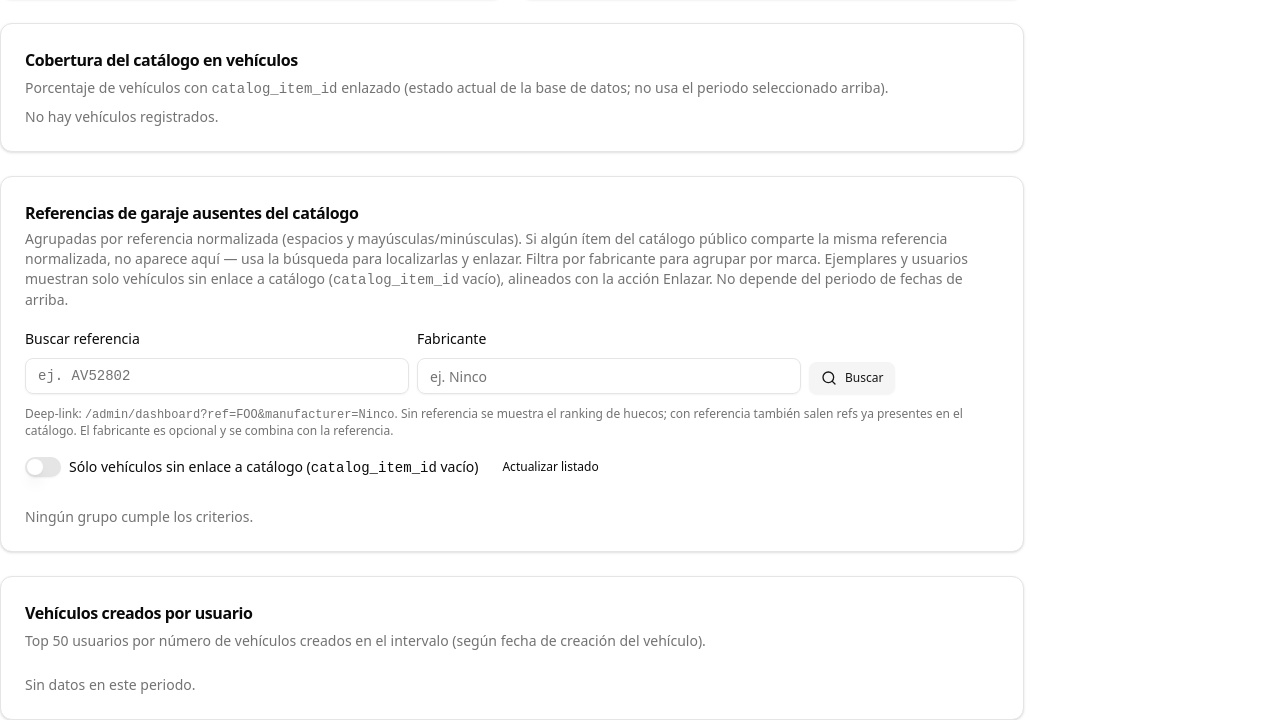
AdminPlatformDashboard — búsqueda y enlace de refs de garaje › filtra por fabricante y lo combina con la referencia
(page scrolled)
Type "Ninco" into the search field labelled "Fabricante" at (609,376), box [417,358,801,394]
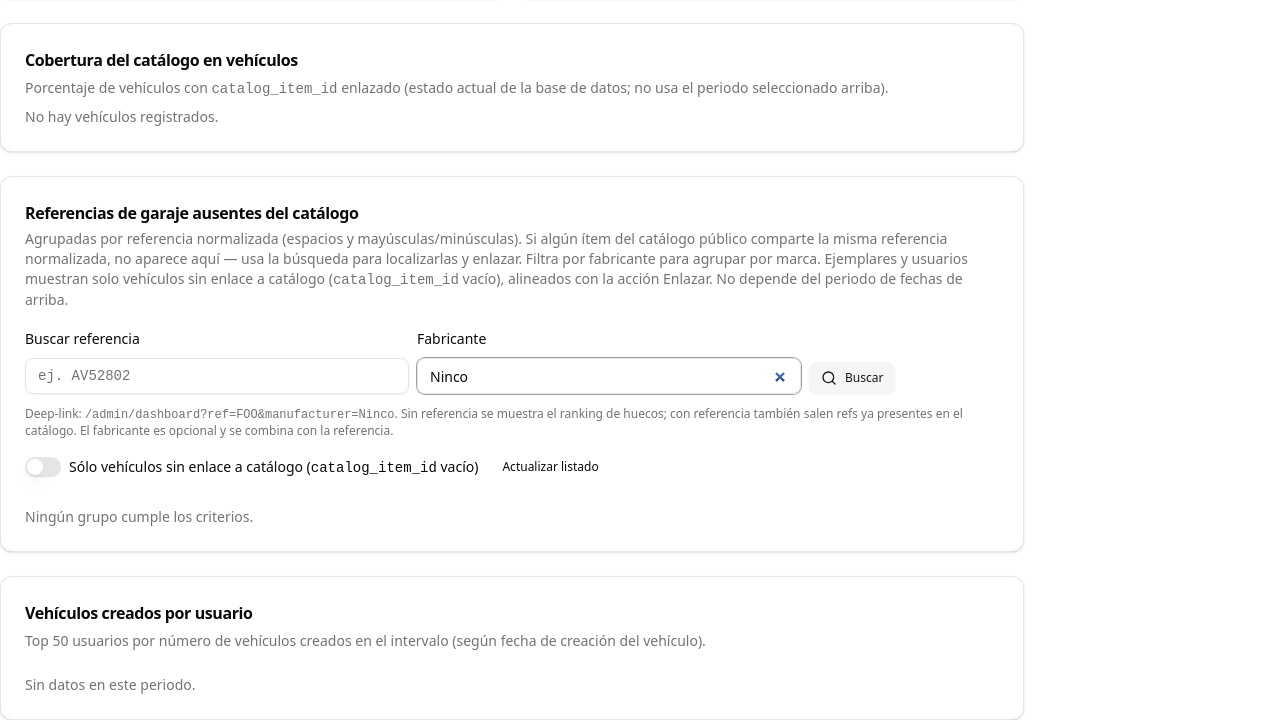
Type "AV52802" into the search field labelled "Buscar referencia" at (217,376), box [25,358,409,394]
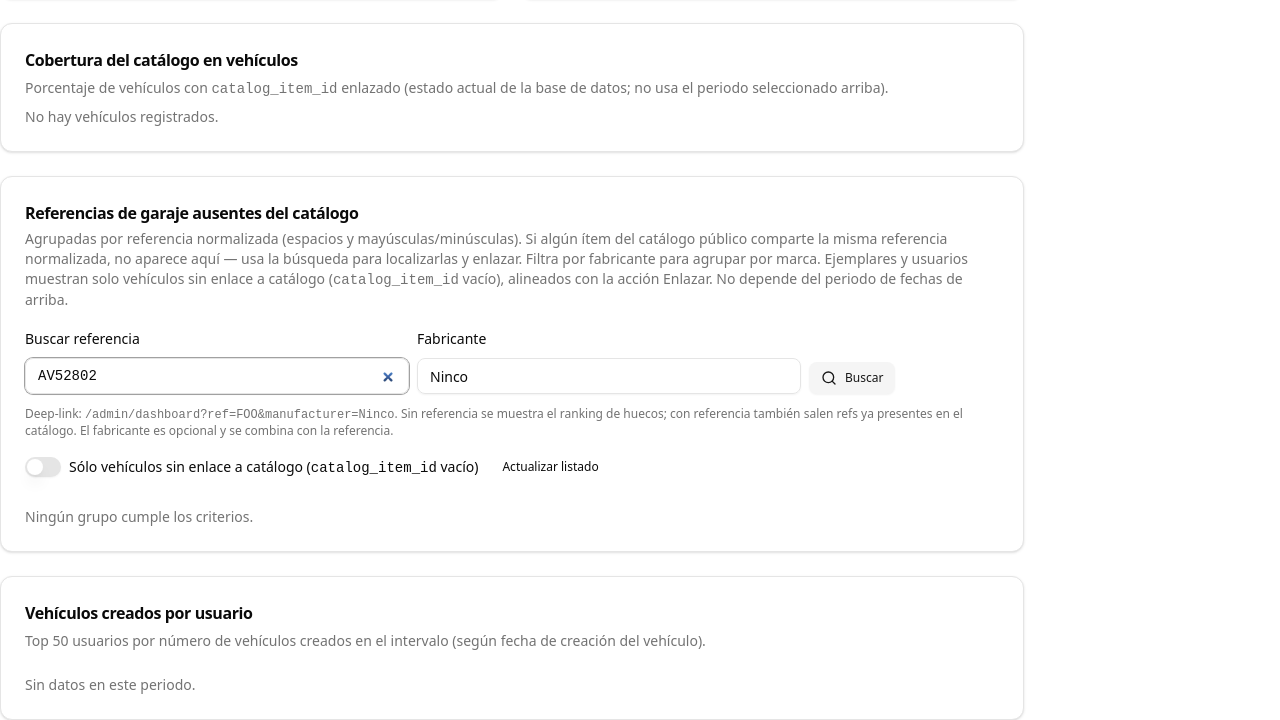
Click the button "Buscar" at (852,378), box [809,362,895,394]
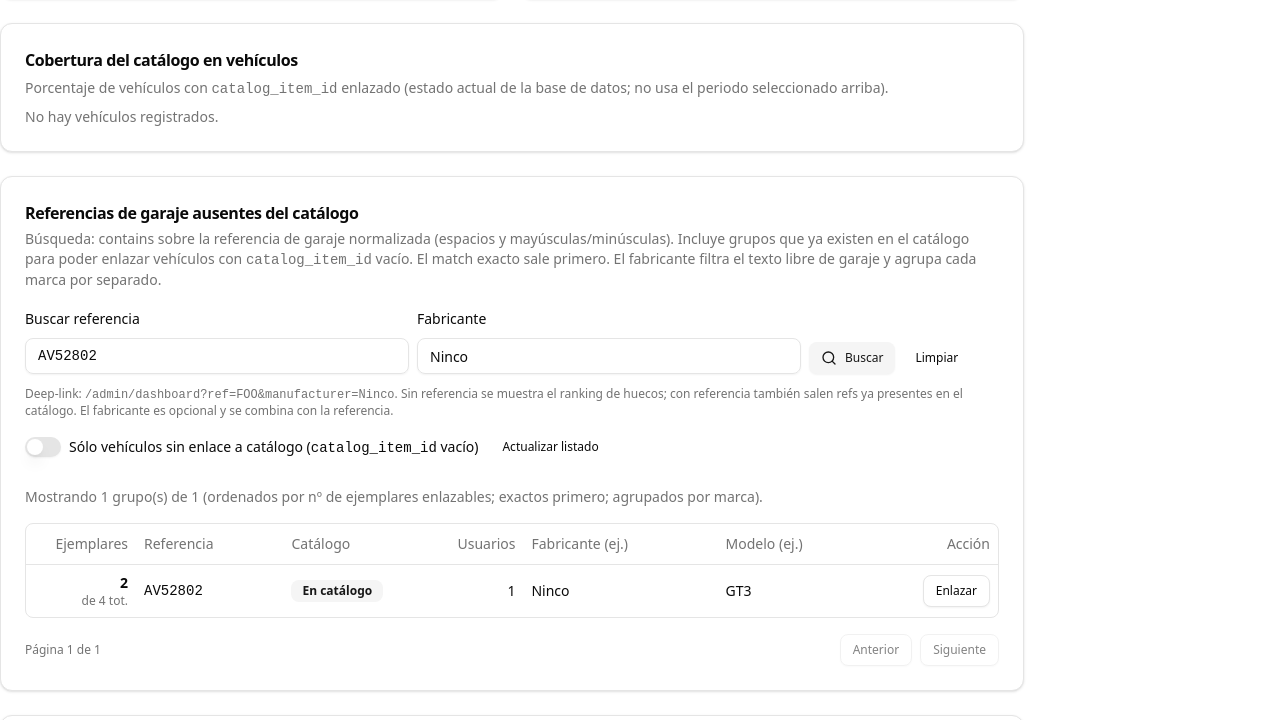
Result: the text "agrupados por marca" is shown at [25,487,763,506]
